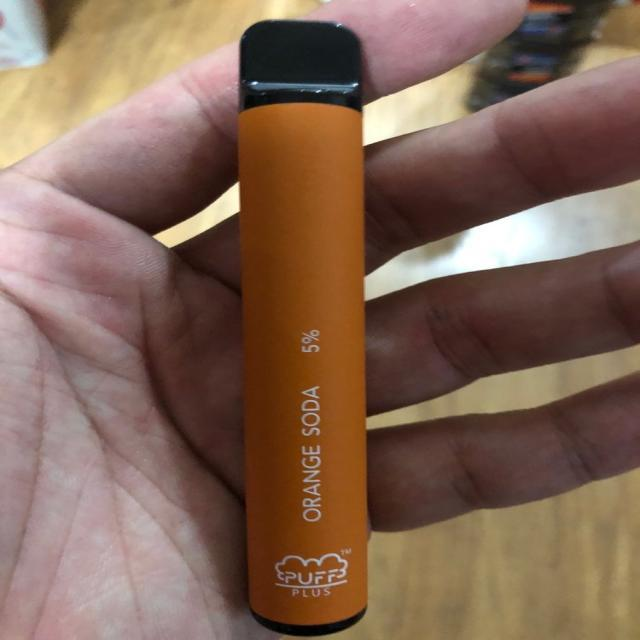Hazard: (241, 17, 369, 640)
